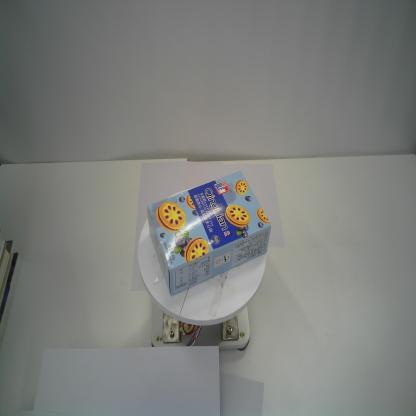Dessert: (146, 168, 272, 297)
